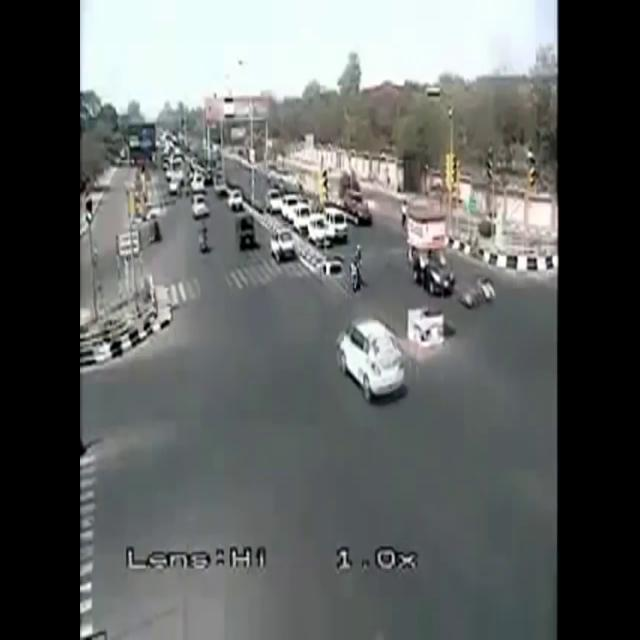multiple_accident: (408, 228, 525, 342)
normal: (323, 298, 415, 422)
